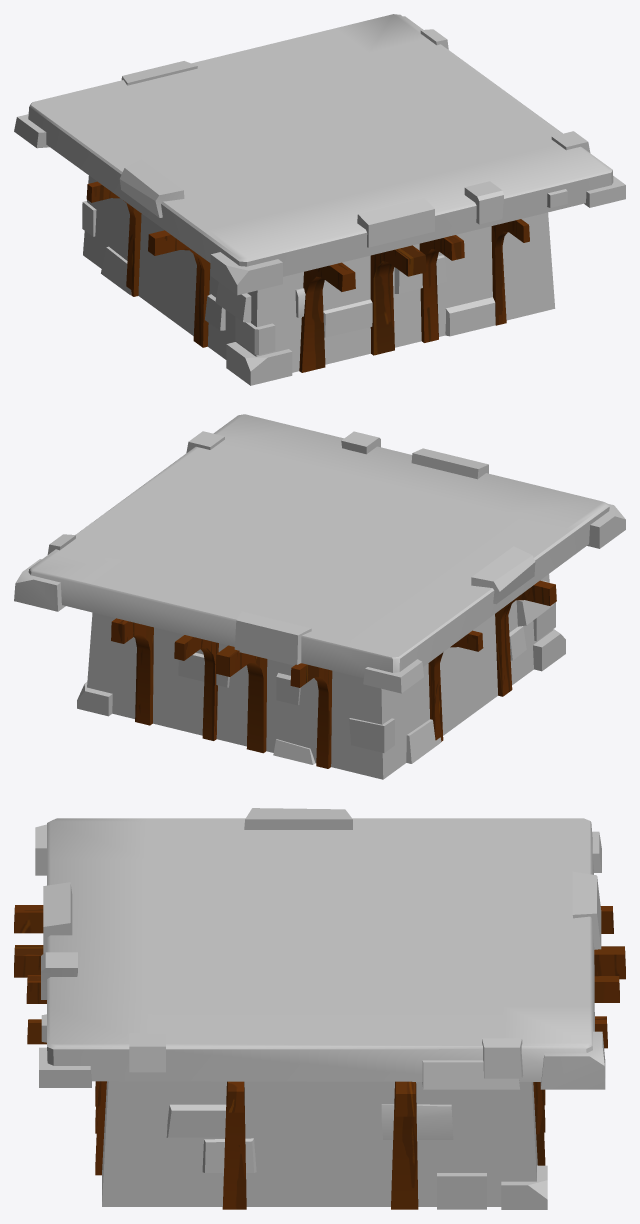
File: SM_BLD_base_v04_01.fbx
3 views of the same model, one above another, from view 1: azimuth 30°, elevation 25°; view 2: azimuth 150°, elevation 25°; view 3: azimuth 270°, elevation 25° (orthographic). The views are drawn at different scales.
Parts seen in each view (by area): view 1: SM_BLD_base_v04_01; view 2: SM_BLD_base_v04_01; view 3: SM_BLD_base_v04_01.
Boxes of the visible parts, left/top/right/bottom form: SM_BLD_base_v04_01: left=14, top=14, right=625, bottom=385; SM_BLD_base_v04_01: left=14, top=414, right=625, bottom=779; SM_BLD_base_v04_01: left=14, top=808, right=625, bottom=1209.
Bounding box in the file's own units: 653 × 235 × 666.
